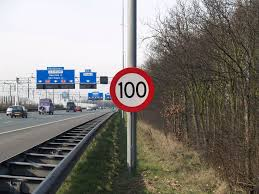Speed_limit_100km: (108, 67, 154, 112)
